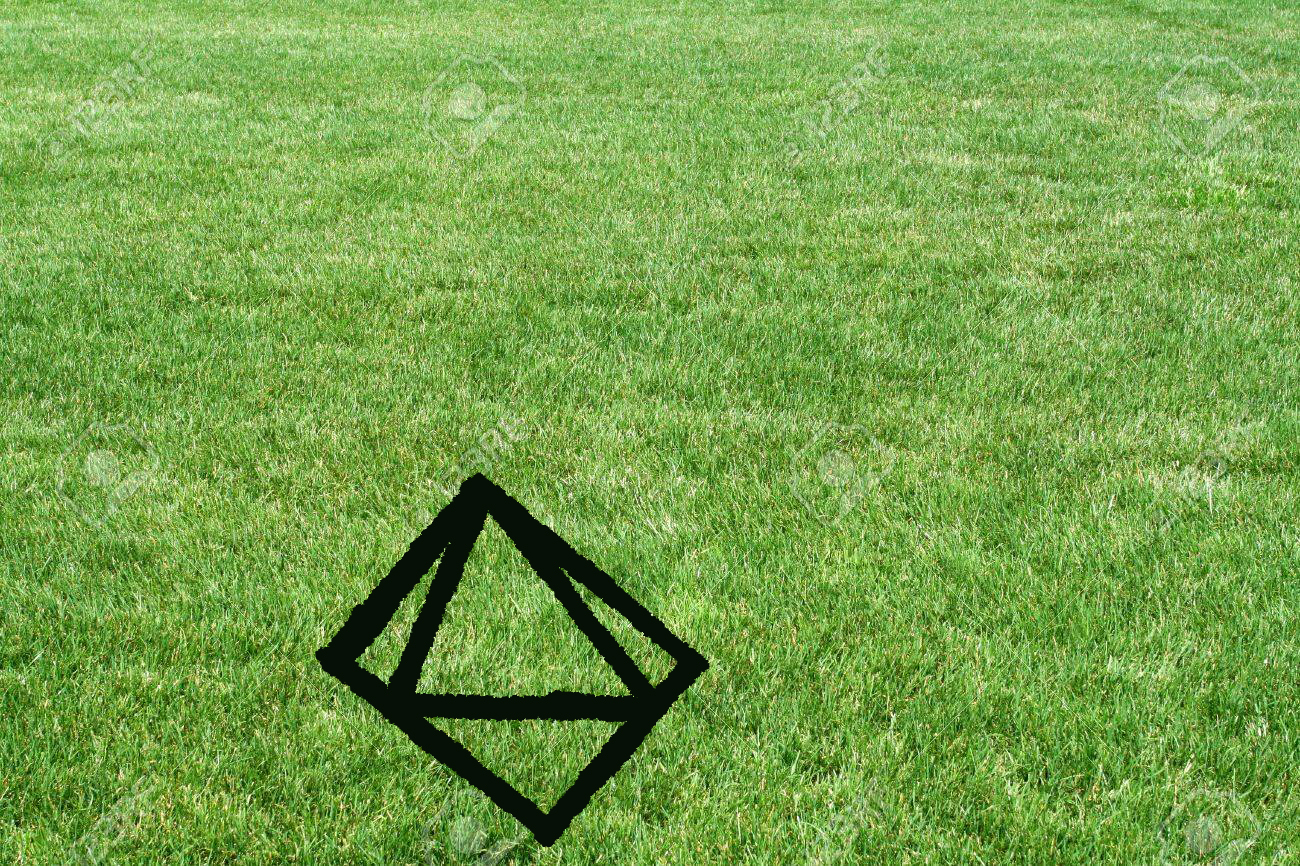marker: (308, 468, 722, 853)
